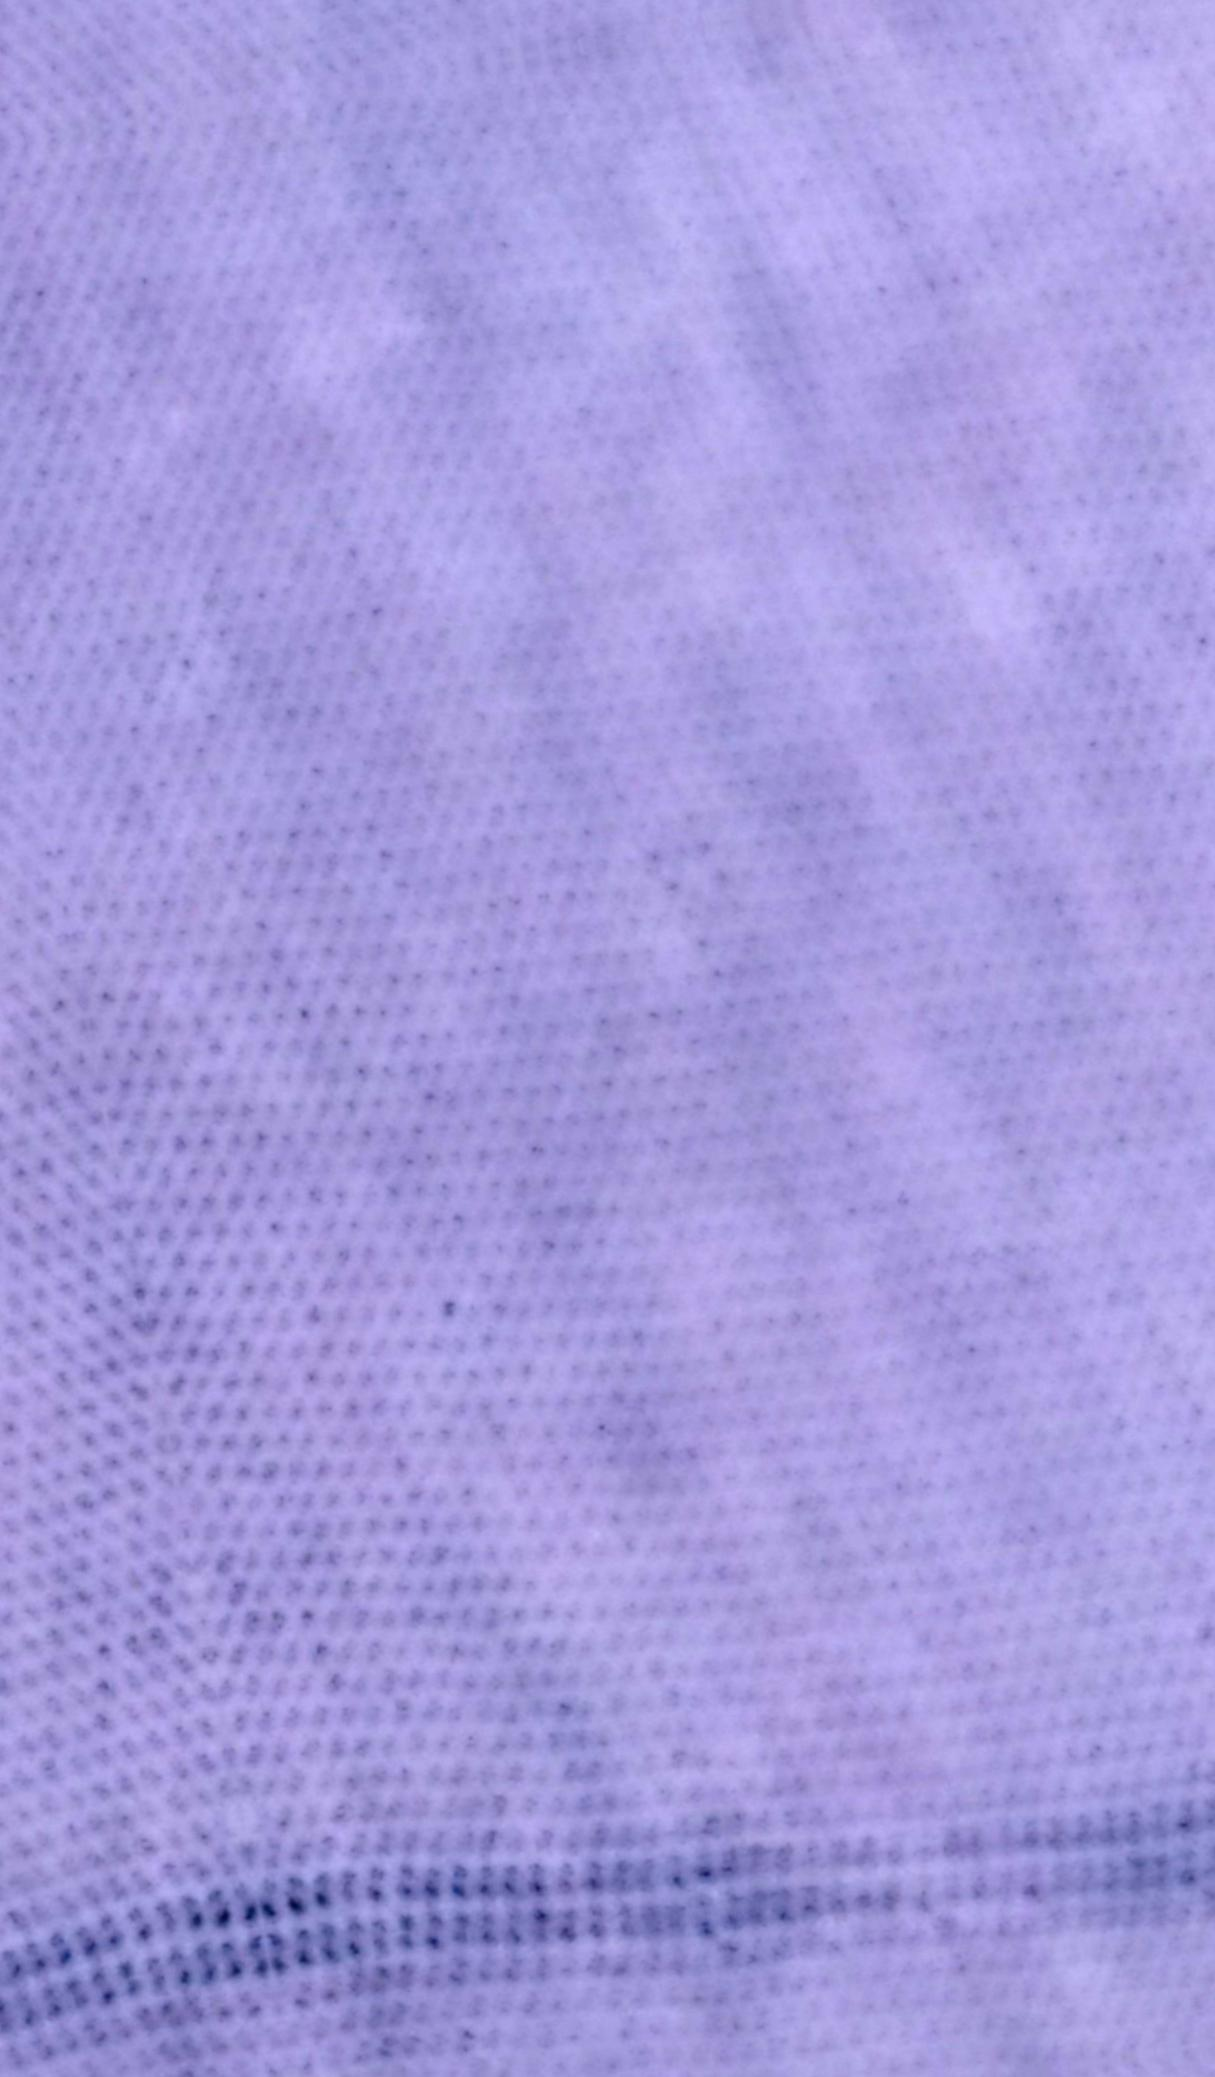slub: (9, 1775, 1215, 2067)
